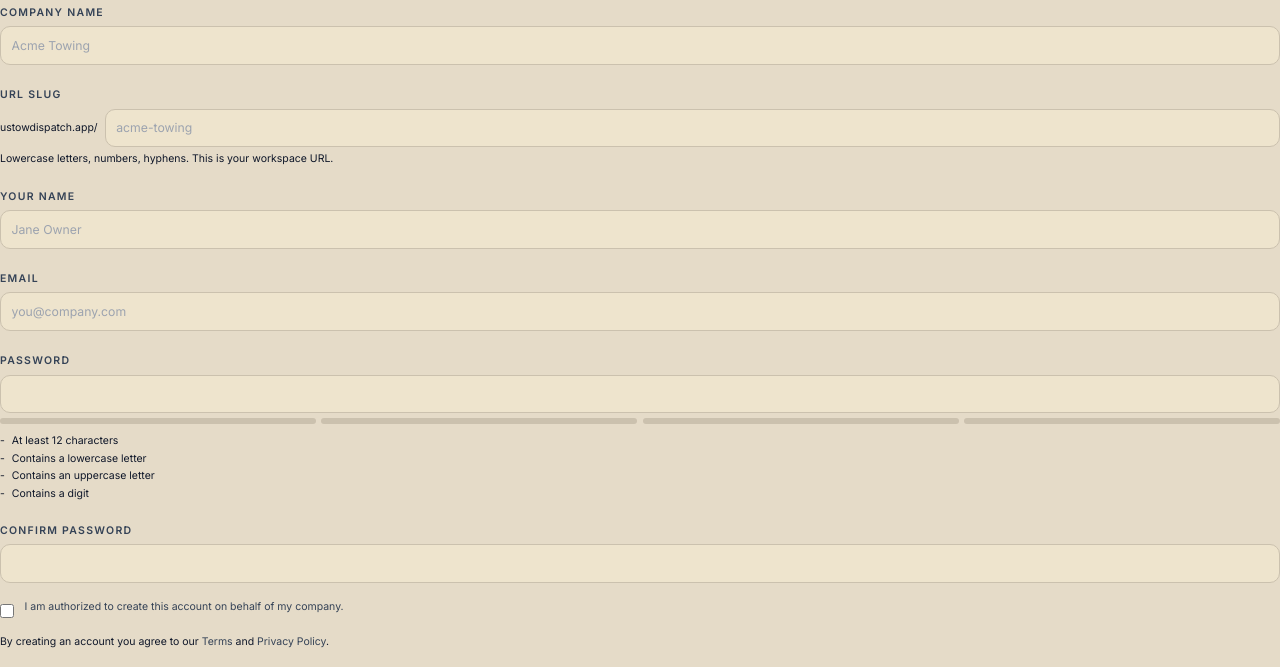
Test case: SignupForm › auto-derives the slug from the company name
The width and height of the screenshot is (1280, 667).
Type "Acme Towing Co" into the field labelled "Company name" at (640, 46), box [0,26,1279,65]
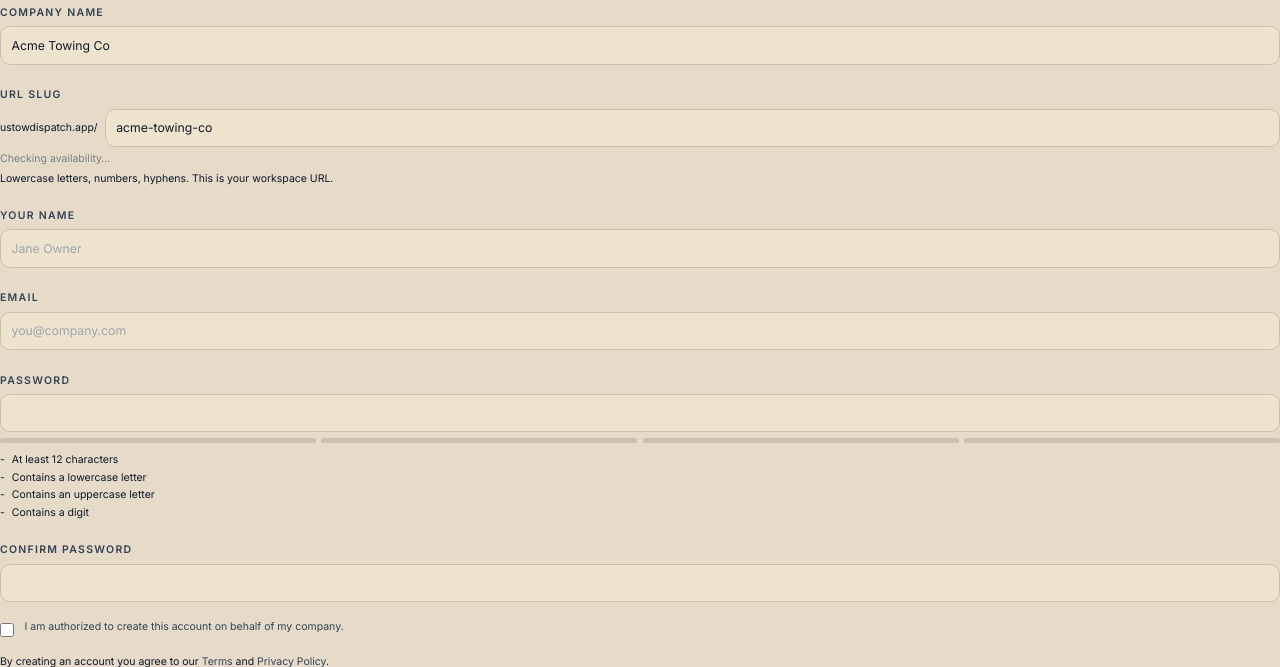
Now the field with placeholder "acme-towing" holds "acme-towing-co", box [105,108,1279,147]
